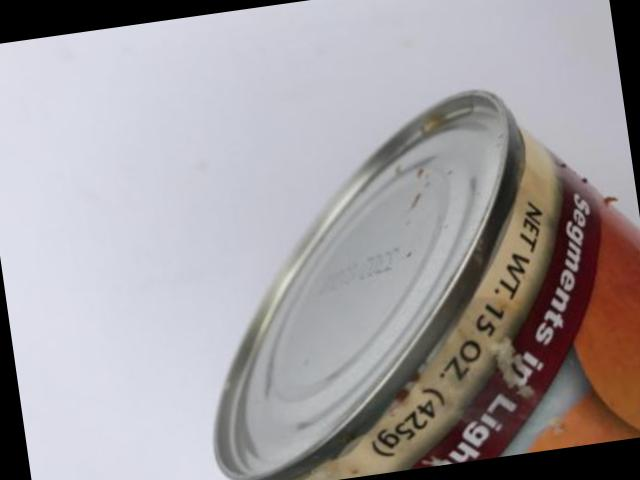metal: (212, 89, 640, 480), (545, 359, 584, 409)
